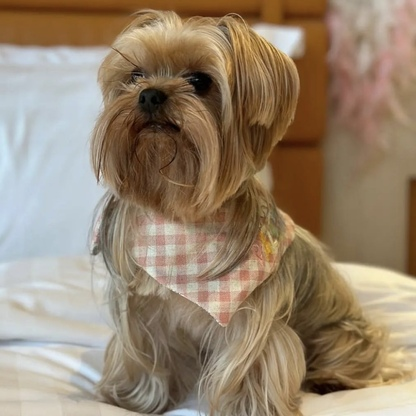yorkshire: (89, 10, 405, 416)
